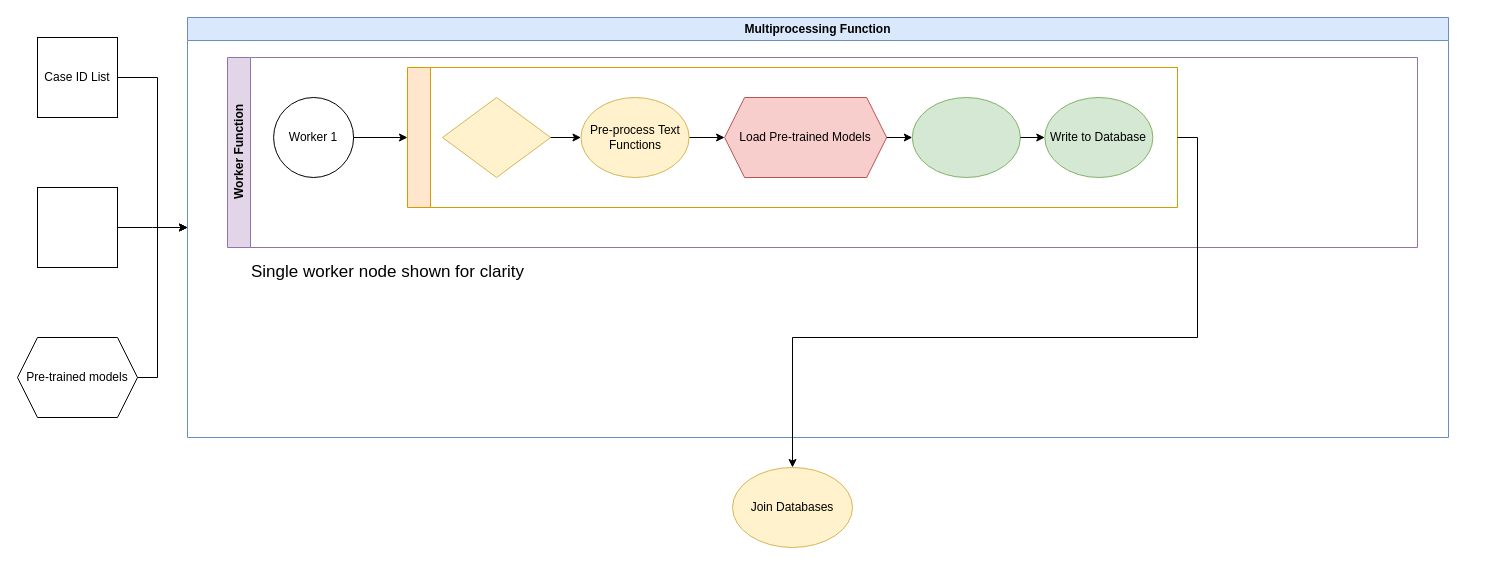
Some shapes in this 1485 by 565 pixel diagram are drawn without their labels. Here are the shapes that lost their labels. From the top down, the box of each, then its label:
(442, 96, 551, 178): Query EDW
(406, 66, 1178, 208): Case Text Process
(911, 96, 1020, 178): Score Narratives
(36, 186, 118, 268): Parameters
